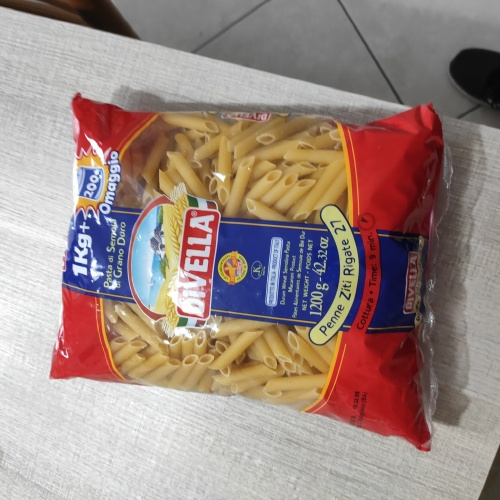pasta: (56, 92, 451, 451)
